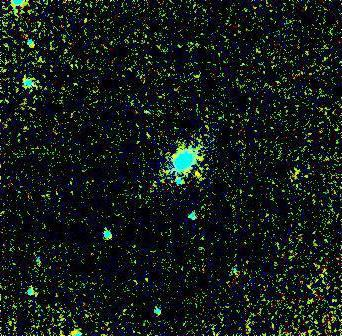star: (183, 159, 213, 189)
